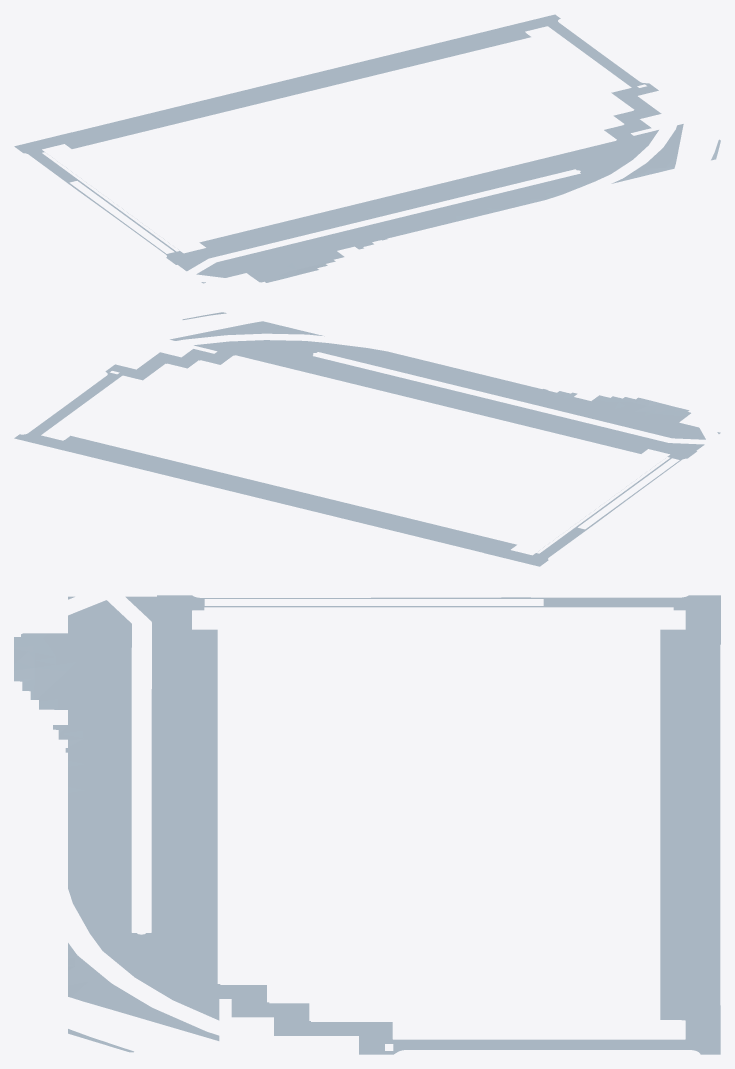
Rendered from SM_MPRSC_MPR3_Concrete.fbx.
3 views of the same model, one above another, from view 1: azimuth 30°, elevation 25°; view 2: azimuth 150°, elevation 25°; view 3: azimuth 270°, elevation 25° (orthographic). The views are drawn at different scales.
Visible parts, largest first — view 1: SM_MPRSC_MPR3_Concrete; view 2: SM_MPRSC_MPR3_Concrete; view 3: SM_MPRSC_MPR3_Concrete.
Boxes of the visible parts, bbox=[...] form: SM_MPRSC_MPR3_Concrete: bbox=[14, 14, 720, 283]; SM_MPRSC_MPR3_Concrete: bbox=[14, 312, 720, 566]; SM_MPRSC_MPR3_Concrete: bbox=[14, 595, 720, 1054].
Bounding box in the file's own units: 39054 × 25416 × 103.
